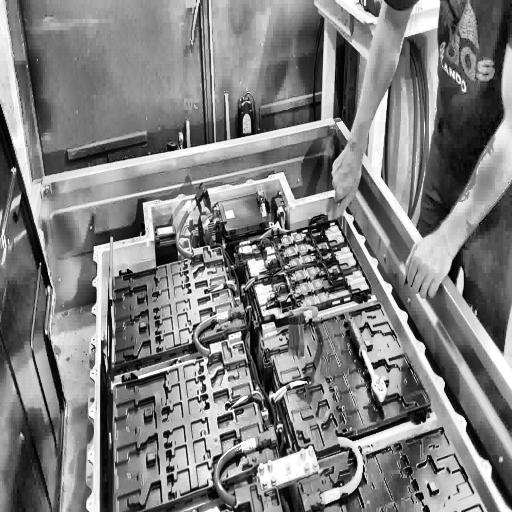high_volt_cable: (210, 428, 277, 508), (300, 434, 367, 512), (189, 303, 244, 362), (172, 181, 210, 263)
low_volt_cable: (242, 228, 348, 294)
nut: (312, 457, 319, 470), (258, 461, 265, 472), (271, 474, 277, 486), (261, 476, 268, 486), (267, 459, 273, 470), (303, 463, 310, 472), (308, 444, 315, 453), (300, 448, 306, 456)
